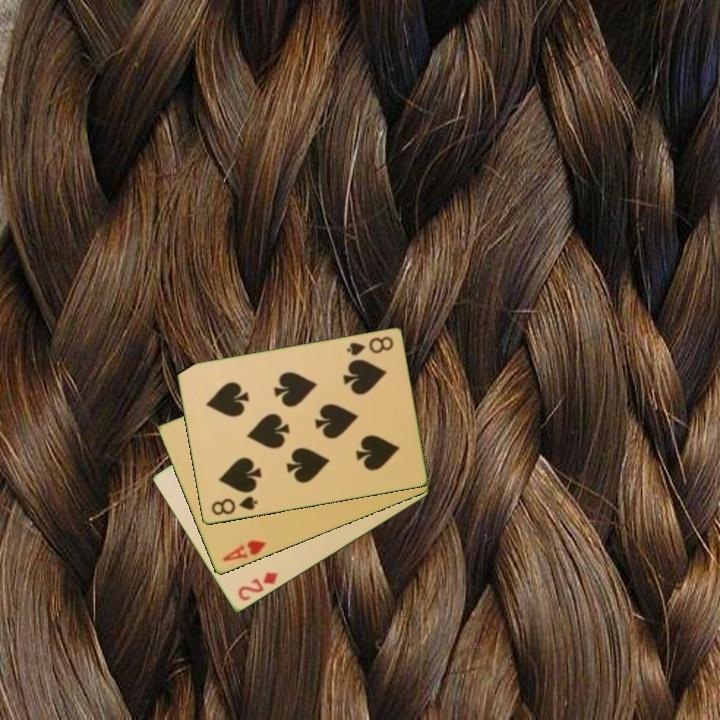2d: (234, 568, 281, 604)
8s: (343, 333, 396, 359), (208, 493, 260, 518)
Ah: (219, 537, 269, 565)
